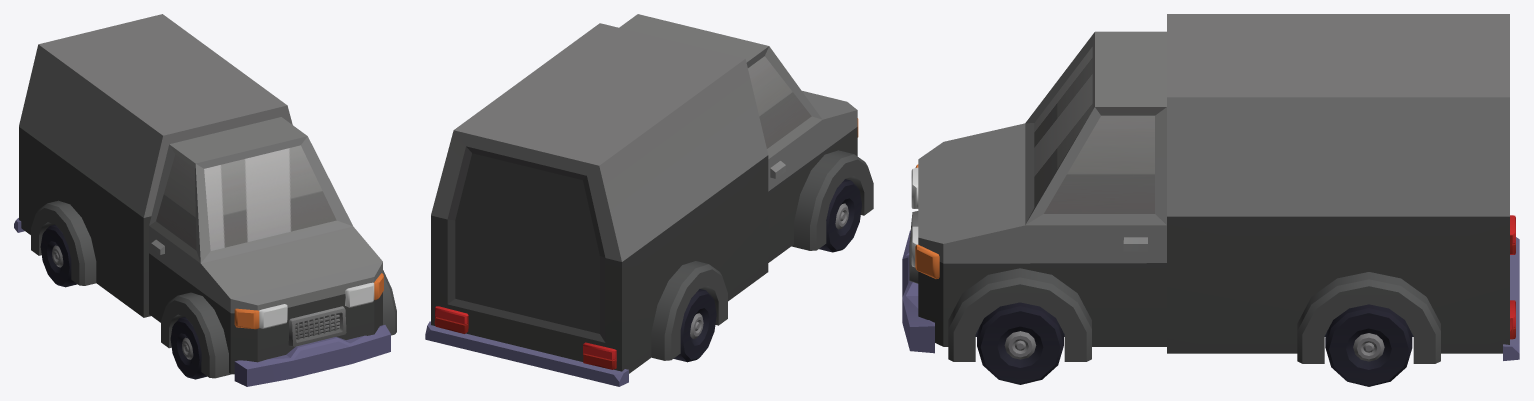
The model's file is Van_1.fbx.
3 views of the same model, side by side, from view 1: azimuth 30°, elevation 25°; view 2: azimuth 150°, elevation 25°; view 3: azimuth 270°, elevation 25° (orthographic). The views are drawn at different scales.
Parts seen in each view (by area): view 1: Van_1, wheel_FR, wheel_BR; view 2: Van_1, wheel_BR, wheel_FR; view 3: Van_1, wheel_BL, wheel_FL.
Boxes of the visible parts, box(x1,y1,x2,y2) form: Van_1: box(14, 14, 396, 386); wheel_FR: box(170, 317, 207, 379); wheel_BR: box(40, 224, 77, 287); Van_1: box(425, 14, 873, 386); wheel_BR: box(673, 289, 716, 362); wheel_FR: box(819, 179, 861, 252); Van_1: box(902, 14, 1519, 363); wheel_BL: box(1325, 304, 1412, 386); wheel_FL: box(977, 302, 1063, 384).
Bounding box in the file's own units: 123 × 119 × 248.
